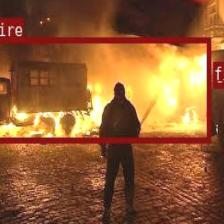fire: (0, 36, 211, 142), (213, 61, 224, 86)
